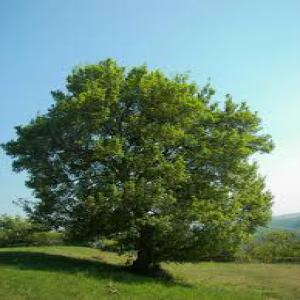Tree: (0, 56, 279, 265)
